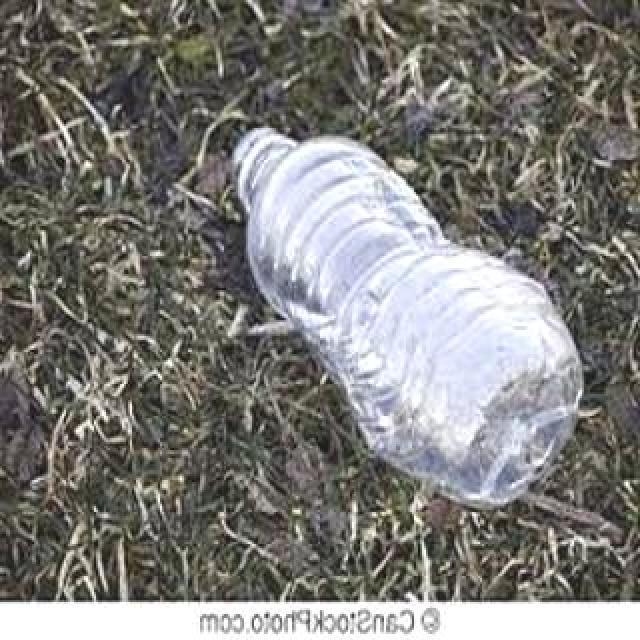Pet_Bottle: (228, 113, 584, 515)
